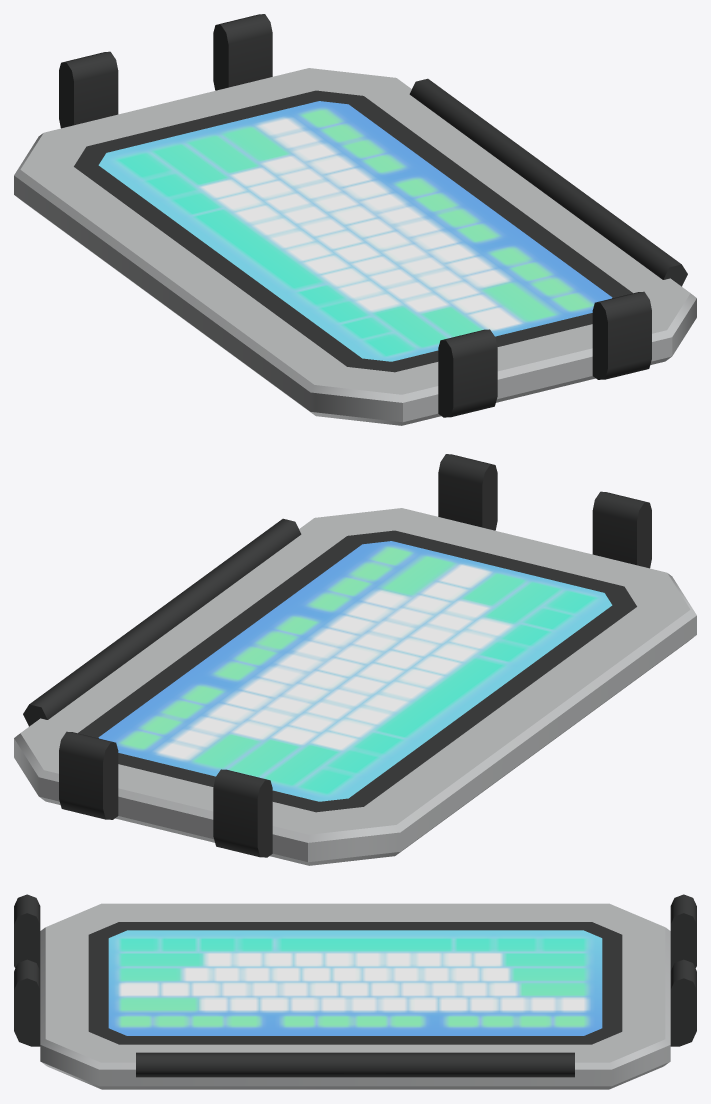
File: Laptop_001.fbx
3 renders of one model, top to bottom at view 1: azimuth 30°, elevation 25°; view 2: azimuth 150°, elevation 25°; view 3: azimuth 270°, elevation 25°, orthographic. The views are drawn at different scales.
Parts seen in each view (by area): view 1: Laptop_001; view 2: Laptop_001; view 3: Laptop_001.
Boxes of the visible parts, box(x1,y1,x2,y2) form: Laptop_001: box(14, 14, 696, 425); Laptop_001: box(14, 454, 696, 865); Laptop_001: box(14, 894, 696, 1089).
Bounding box in the file's own units: 32.16 × 55.11 × 6.64.
